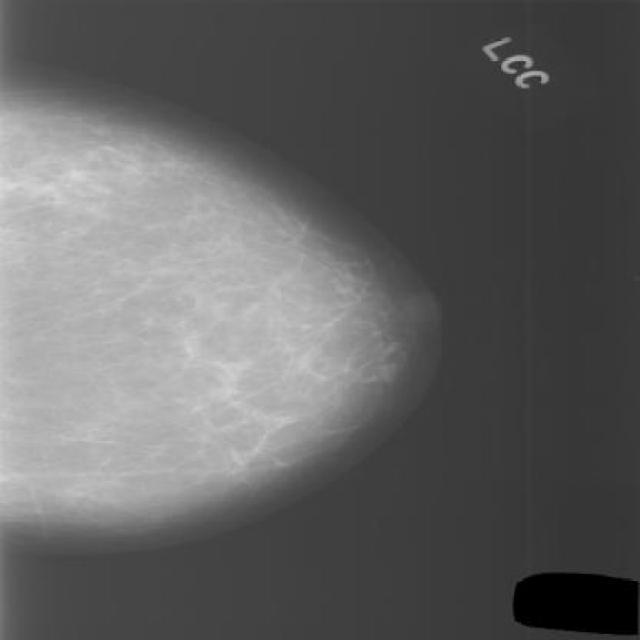tumor: (22, 120, 370, 471)
